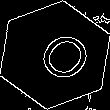O_SW: (20, 22, 90, 88)
